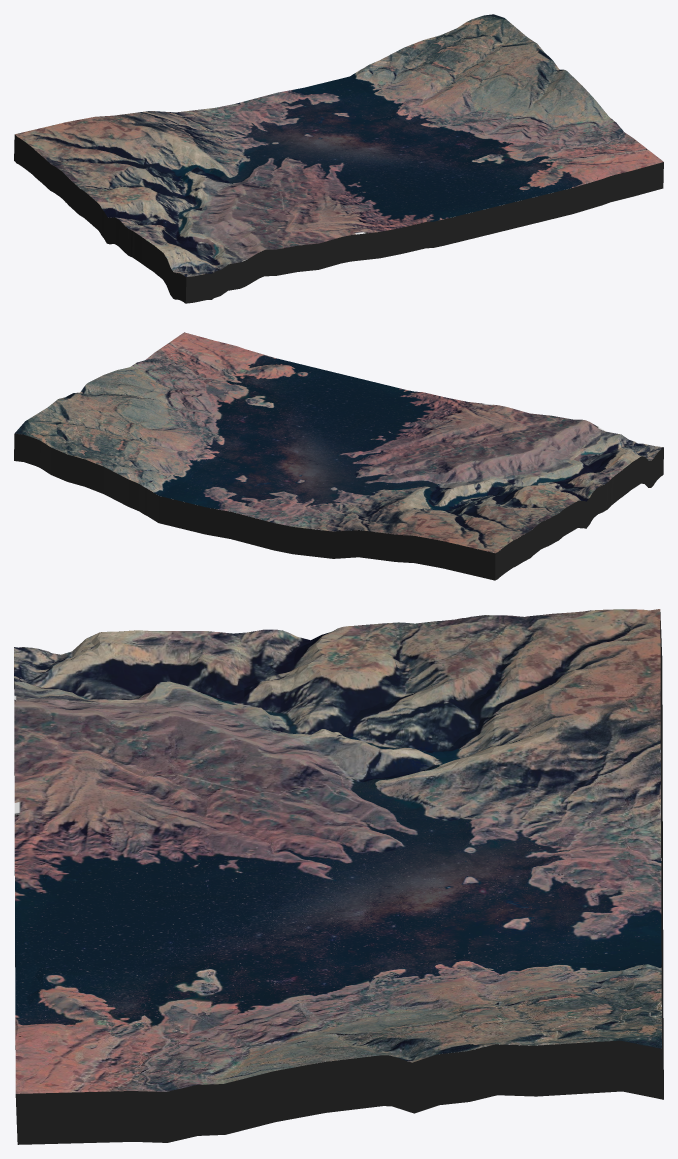
File: morocco.gltf
3 views of the same model, one above another, from view 1: azimuth 30°, elevation 25°; view 2: azimuth 150°, elevation 25°; view 3: azimuth 270°, elevation 25° (orthographic). The views are drawn at different scales.
Parts seen in each view (by area): view 1: Morocco, morocco_skirt; view 2: Morocco, morocco_skirt; view 3: Morocco, morocco_skirt.
Boxes of the visible parts, x1,y1,x2,y2 form: Morocco: (15, 14, 663, 276); morocco_skirt: (14, 54, 663, 303); Morocco: (15, 332, 663, 553); morocco_skirt: (14, 419, 663, 580); Morocco: (14, 609, 661, 1093); morocco_skirt: (14, 612, 663, 1144).
Bounding box in the file's own units: 27.01 × 3.13 × 16.65.
2 materials, 1 textured.
